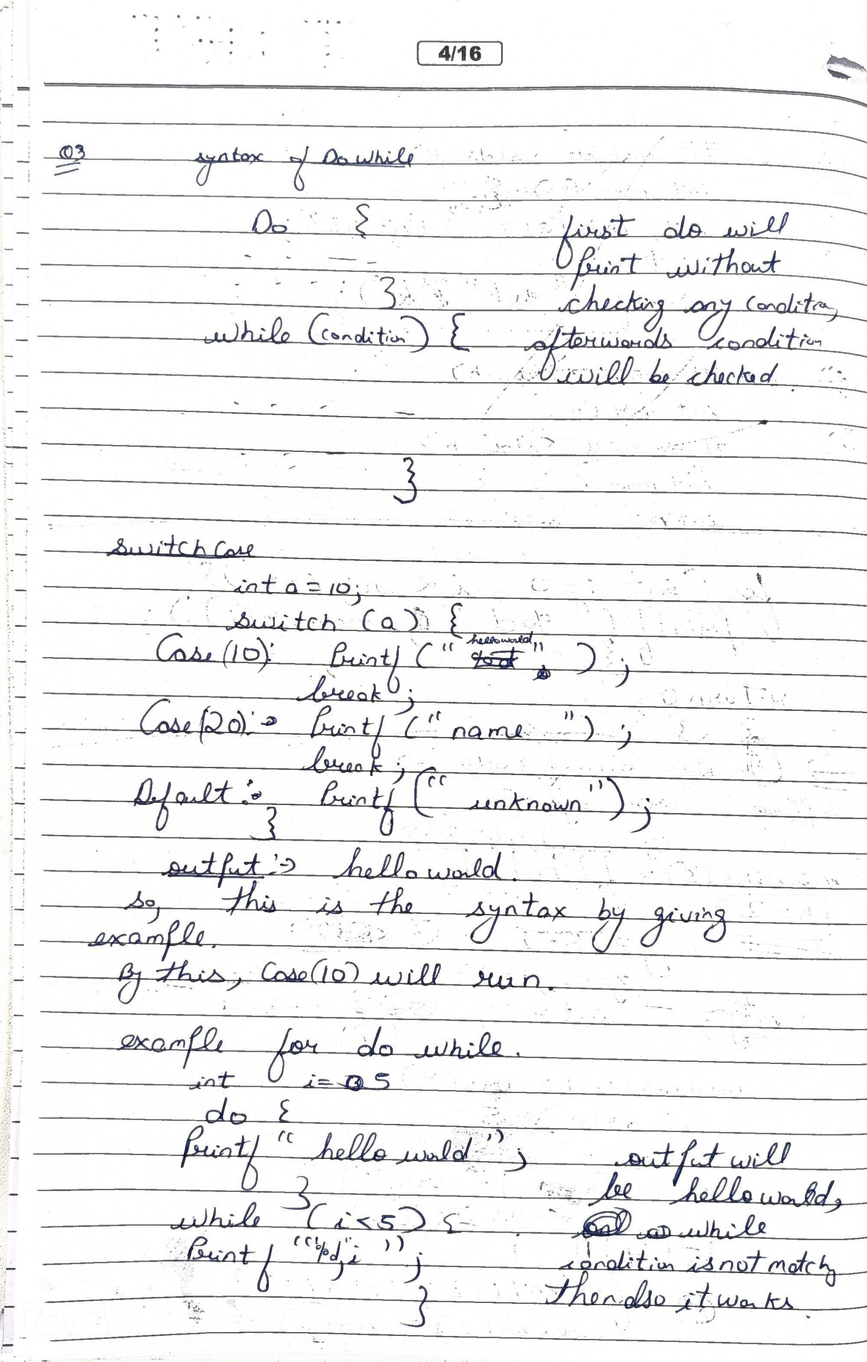cuttings: (570, 1206, 632, 1240), (469, 646, 527, 670), (636, 1224, 671, 1240), (336, 1074, 364, 1092), (532, 664, 551, 681)
